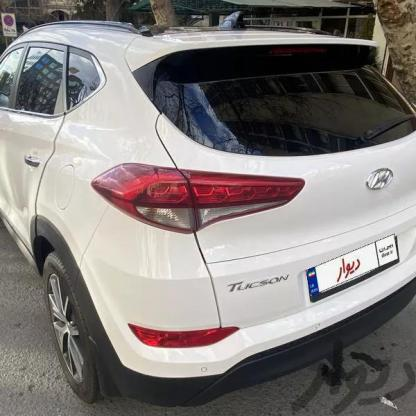Car: (0, 12, 416, 416)
